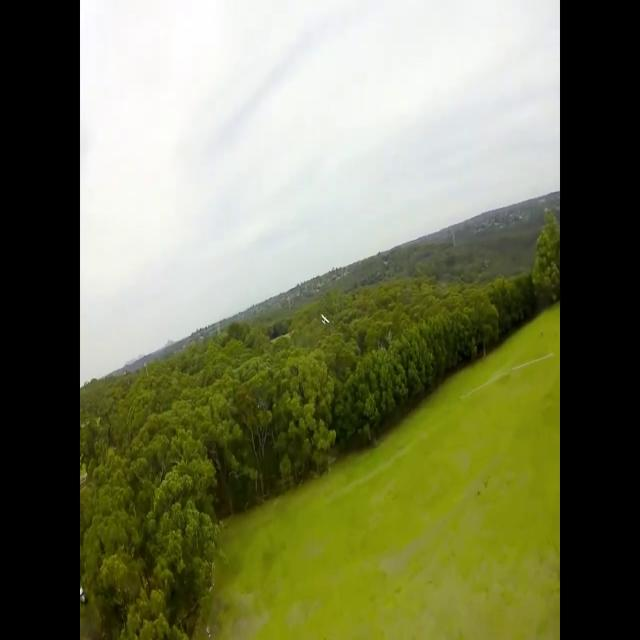iha: (324, 316, 326, 322)
